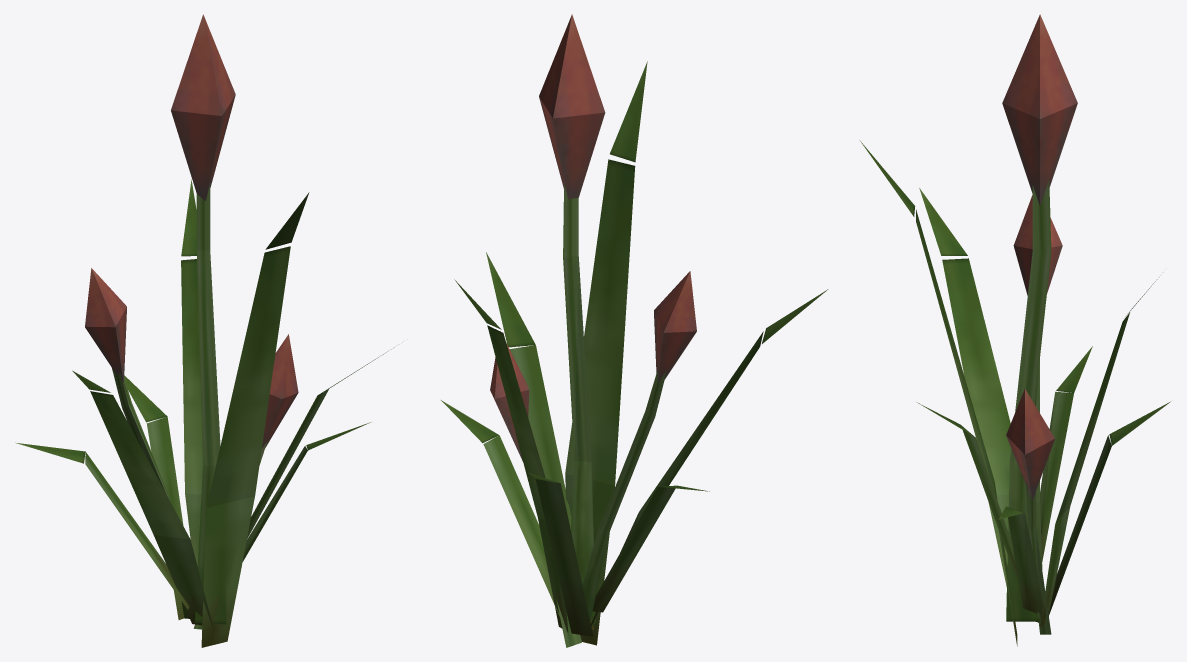
Rendered from C1SNBULLRUSH.obj.
The picture shows the model from 3 angles, left to right: view 1: azimuth 30°, elevation 25°; view 2: azimuth 150°, elevation 25°; view 3: azimuth 270°, elevation 25°; orthographic projection. The views are drawn at different scales.
Visible parts, largest first — view 1: Node 0; view 2: Node 0; view 3: Node 0.
Part boxes in pixels (bbox=[...]): Node 0: bbox=[15, 14, 394, 647]; Node 0: bbox=[441, 14, 828, 647]; Node 0: bbox=[860, 14, 1170, 646].
Size of the model in its own units: 1.05 by 1.83 by 0.83.
